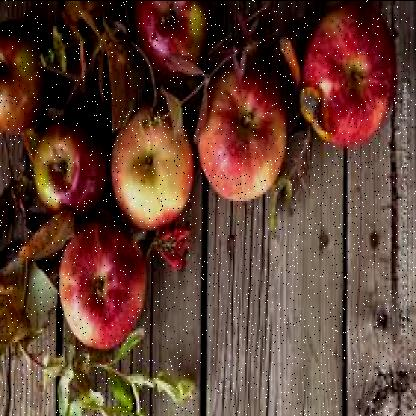apple: (195, 66, 289, 196), (106, 114, 189, 232), (66, 230, 150, 341)
damaged_apple: (296, 9, 394, 159), (35, 121, 107, 214), (131, 3, 202, 78), (2, 36, 44, 136)
